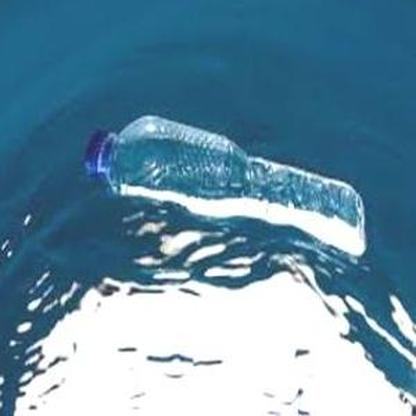plastic bottle: (86, 116, 366, 258)
